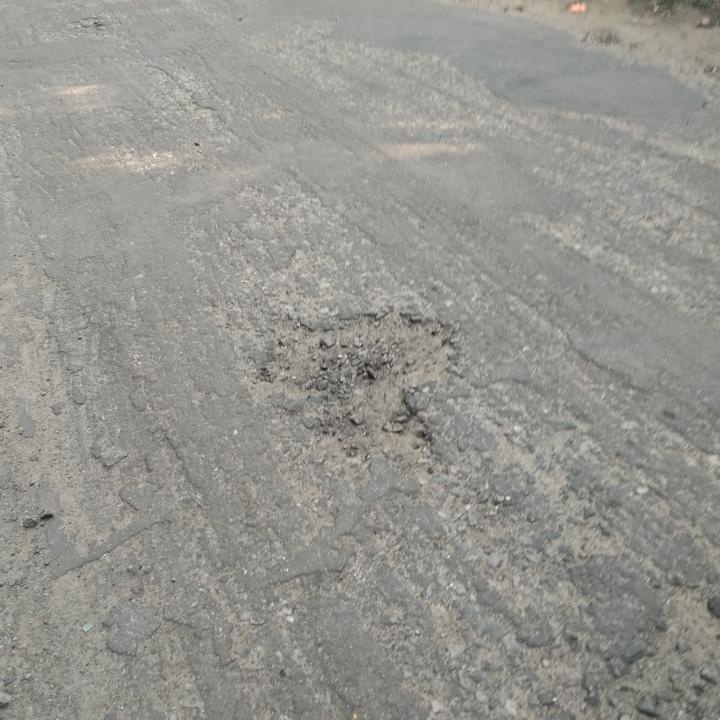pothole: (256, 299, 463, 471)
